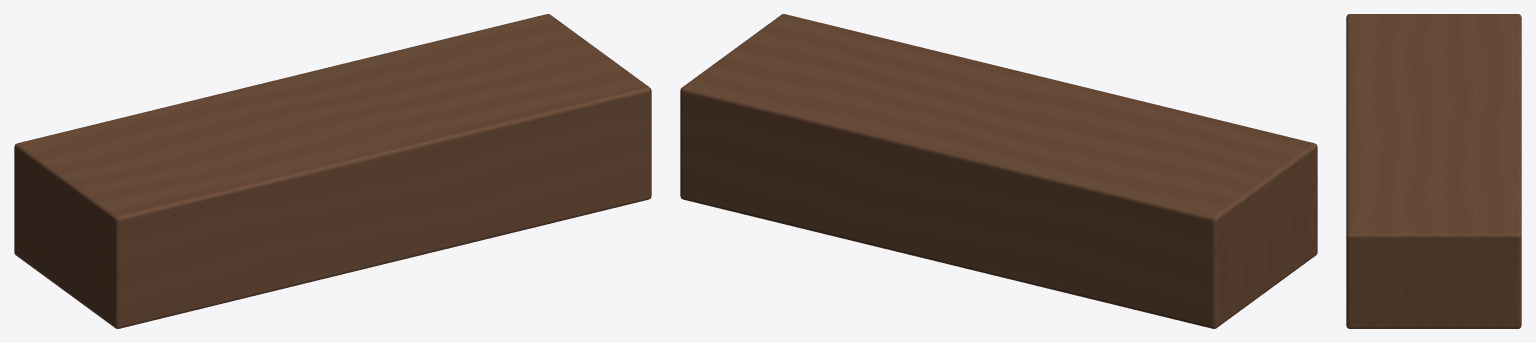
File: walnut.glb
3 views of the same model, side by side, from view 1: azimuth 30°, elevation 25°; view 2: azimuth 150°, elevation 25°; view 3: azimuth 270°, elevation 25° (orthographic). The views are drawn at different scales.
Parts seen in each view (by area): view 1: Block_L01_S1; view 2: Block_L01_S1; view 3: Block_L01_S1.
Part boxes in pixels (bbox=[...]): Block_L01_S1: bbox=[14, 14, 651, 328]; Block_L01_S1: bbox=[680, 14, 1317, 328]; Block_L01_S1: bbox=[1346, 14, 1521, 328].
Size of the model in its own units: 0.075 by 0.015 by 0.025.
1 material, 1 textured.
